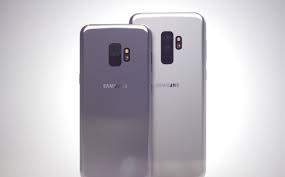samsung: (128, 10, 207, 177), (77, 23, 155, 176)
